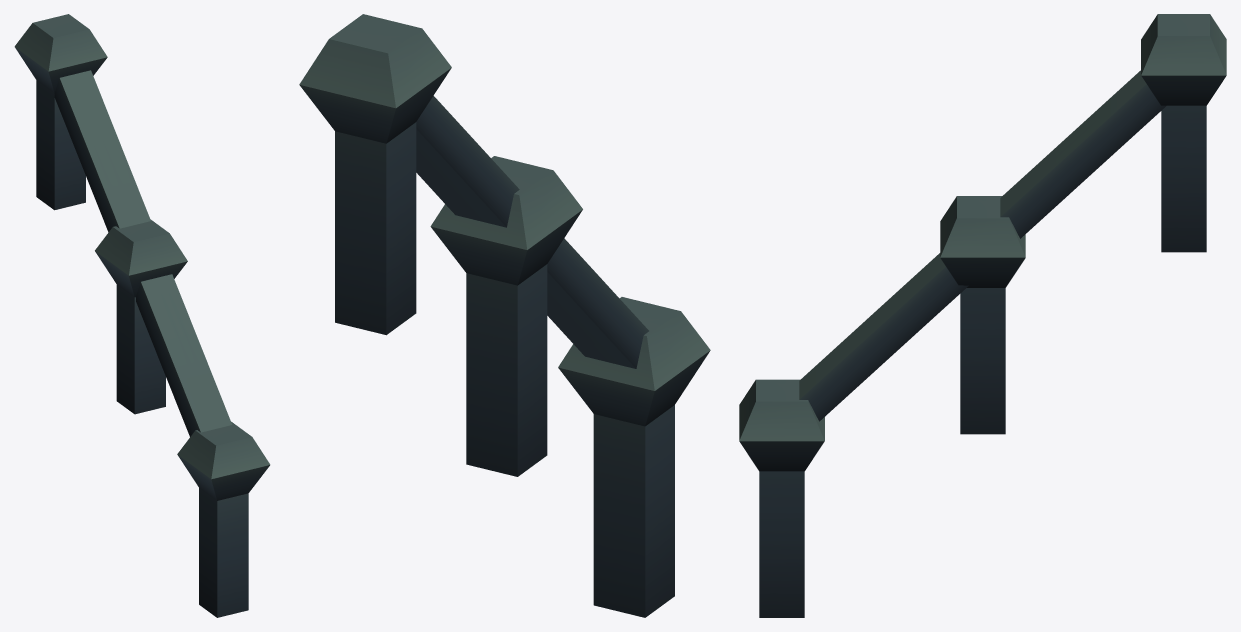
File: handrail1_angle_LOD_setup.fbx
3 renders of one model, left to right at view 1: azimuth 30°, elevation 25°; view 2: azimuth 150°, elevation 25°; view 3: azimuth 270°, elevation 25°, orthographic. The views are drawn at different scales.
Visible parts, largest first — view 1: handrail1_angle_LOD0; view 2: handrail1_angle_LOD0; view 3: handrail1_angle_LOD0.
Part boxes in pixels (box(x1,y1,x2,y2)): handrail1_angle_LOD0: box(14, 14, 270, 617); handrail1_angle_LOD0: box(299, 14, 710, 617); handrail1_angle_LOD0: box(739, 14, 1226, 617).
Size of what is drawn, in the model's own units: 22.13 by 160 by 121.
